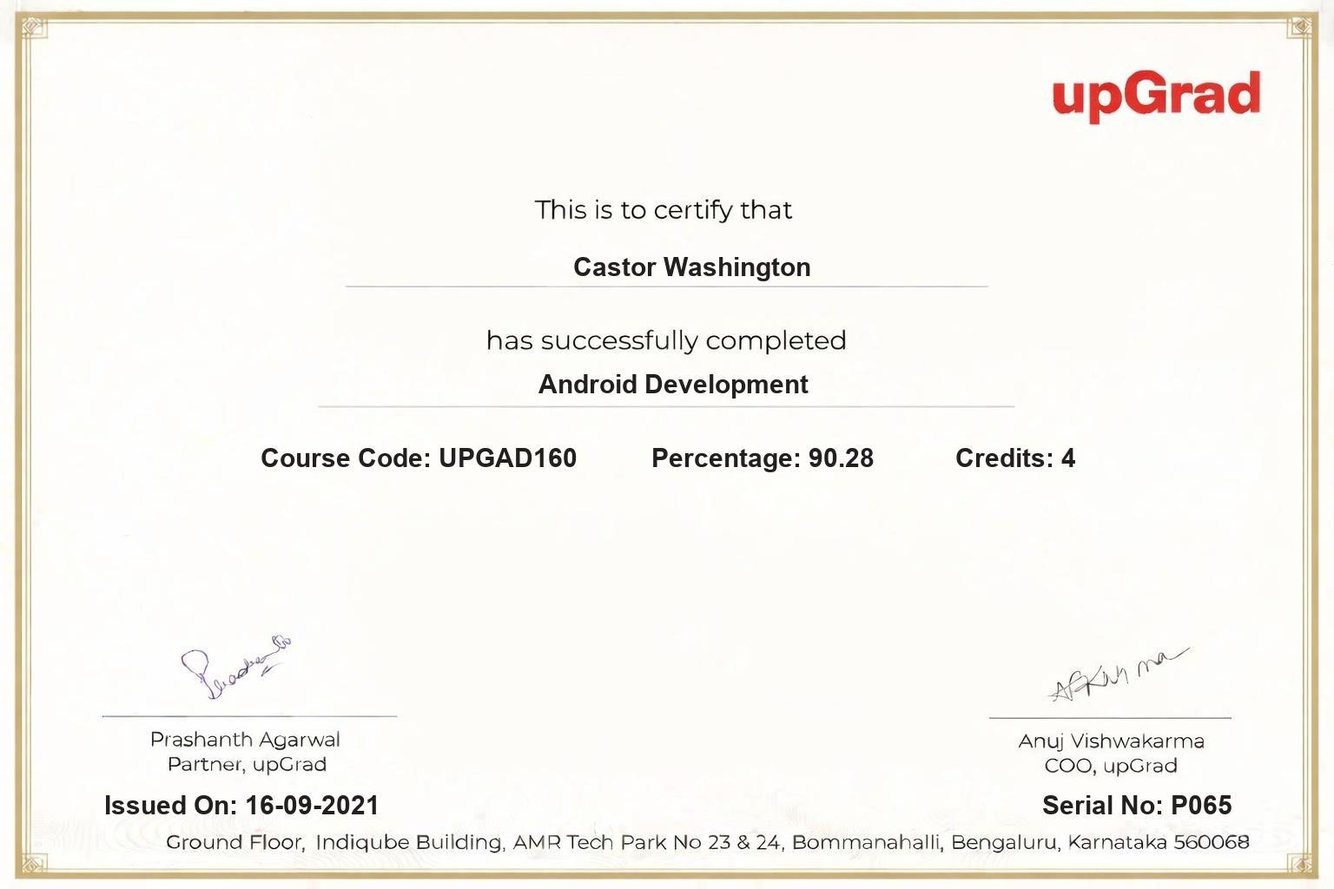Course Code: (433, 437, 588, 480)
Course Name: (534, 367, 822, 406)
Credits: (1055, 439, 1087, 478)
Issued On: (243, 785, 387, 826)
Percentage: (806, 439, 885, 483)
Serial No: (1168, 783, 1239, 826)
Student Name: (565, 244, 818, 286)
